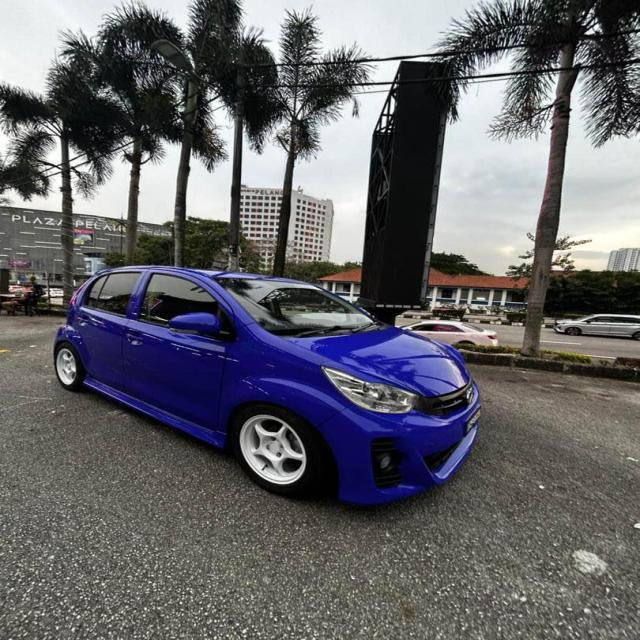PeroduaMyvi: (51, 263, 484, 507)
